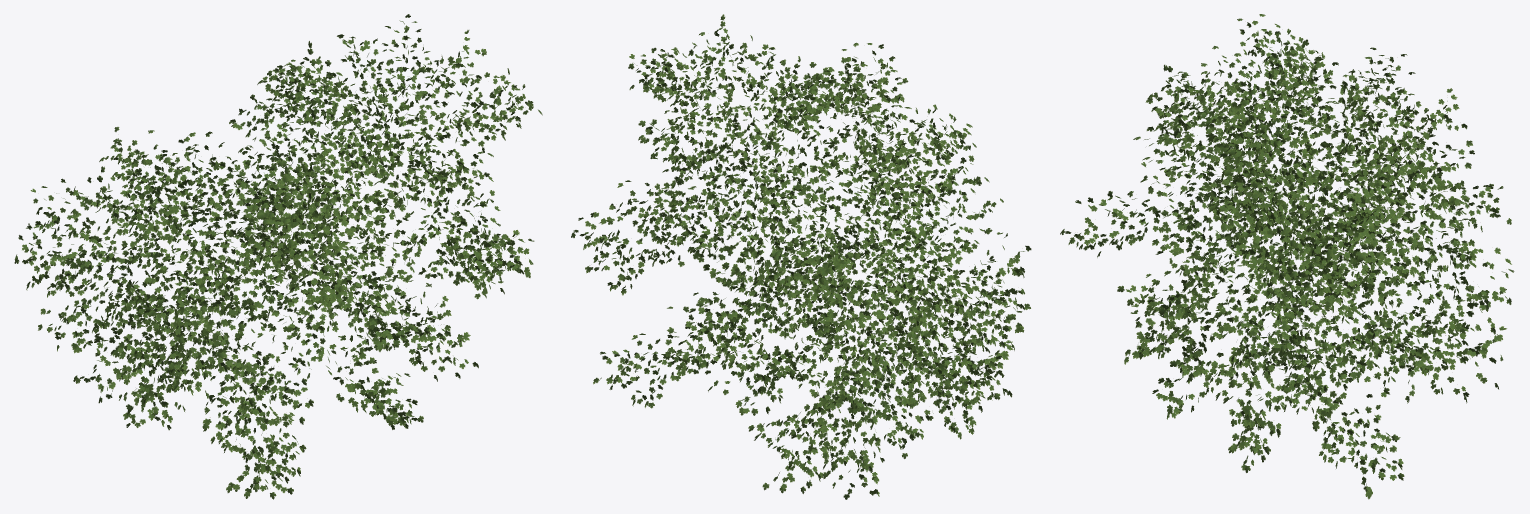
File: MESH_EU01_AcerCampestre_A_LOD1.fbx
The picture shows the model from 3 angles, left to right: view 1: azimuth 30°, elevation 25°; view 2: azimuth 150°, elevation 25°; view 3: azimuth 270°, elevation 25°; orthographic projection. The views are drawn at different scales.
Parts seen in each view (by area): view 1: MI_LOD1_001; view 2: MI_LOD1_001; view 3: MI_LOD1_001.
Part boxes in pixels (x1,y1,x2,y2): MI_LOD1_001: [14, 14, 542, 499]; MI_LOD1_001: [571, 14, 1031, 499]; MI_LOD1_001: [1060, 14, 1514, 499].
Size of what is drawn, in the model's own units: 1180 by 1014 by 980.
